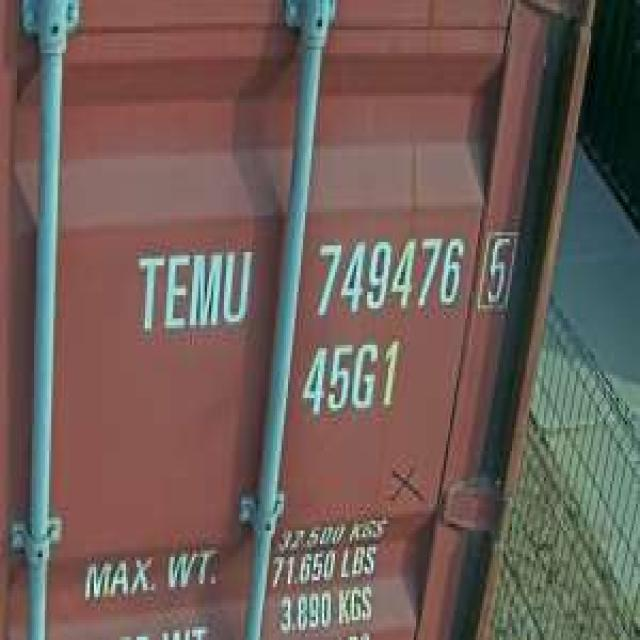dv: (476, 219, 518, 315)
owner: (128, 236, 254, 342)
serial: (307, 225, 465, 325)
size: (294, 332, 404, 424)
